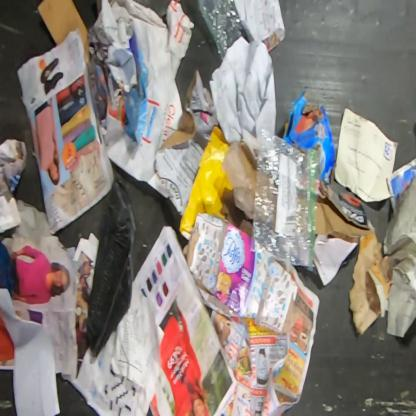cardboard: (183, 212, 303, 336), (155, 66, 220, 218), (313, 180, 374, 286), (282, 88, 336, 185), (36, 0, 88, 66), (123, 23, 150, 147), (222, 139, 258, 221)
rigid_plastic: (86, 173, 138, 359)
soft_plastic: (250, 128, 320, 272), (194, 0, 255, 65), (135, 0, 177, 18), (96, 0, 102, 19)
